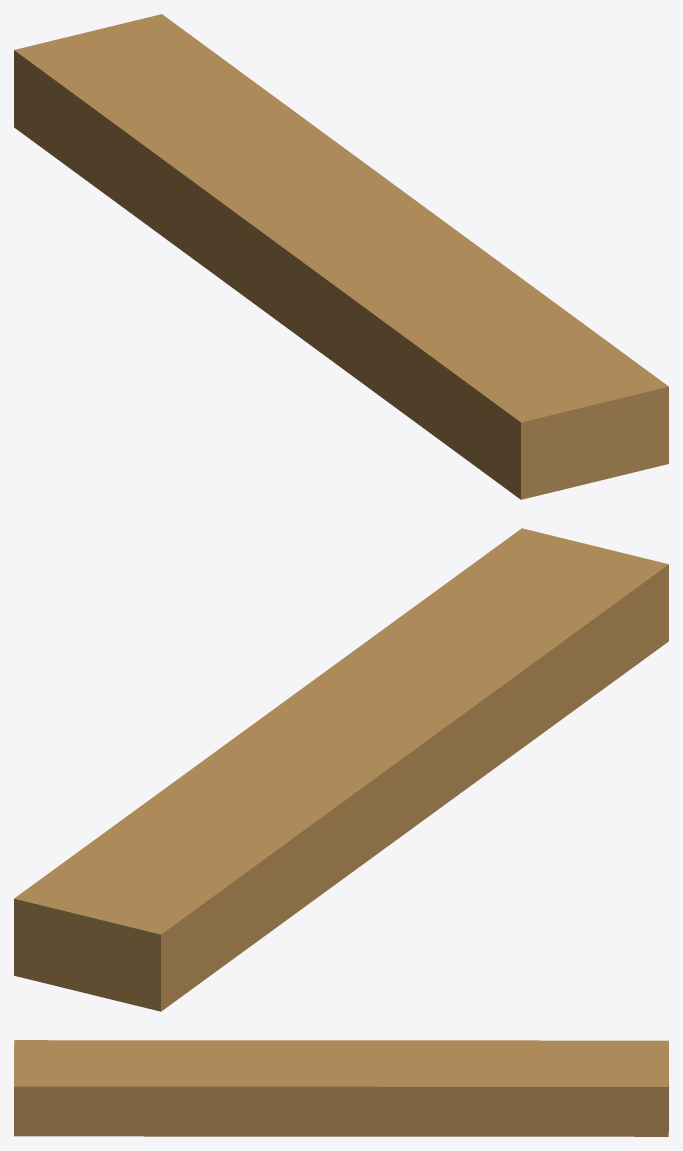
3 renders of one model, top to bottom at view 1: azimuth 30°, elevation 25°; view 2: azimuth 150°, elevation 25°; view 3: azimuth 270°, elevation 25°, orthographic. The views are drawn at different scales.
Visible parts, largest first — view 1: RUN-064-S00-NOG-04; view 2: RUN-064-S00-NOG-04; view 3: RUN-064-S00-NOG-04.
Boxes of the visible parts, x1,y1,x2,y2 form: RUN-064-S00-NOG-04: (14,14,668,499); RUN-064-S00-NOG-04: (14,528,668,1011); RUN-064-S00-NOG-04: (14,1040,668,1136).
Bounding box in the file's own units: 0.0908 × 0.045 × 0.5361.
